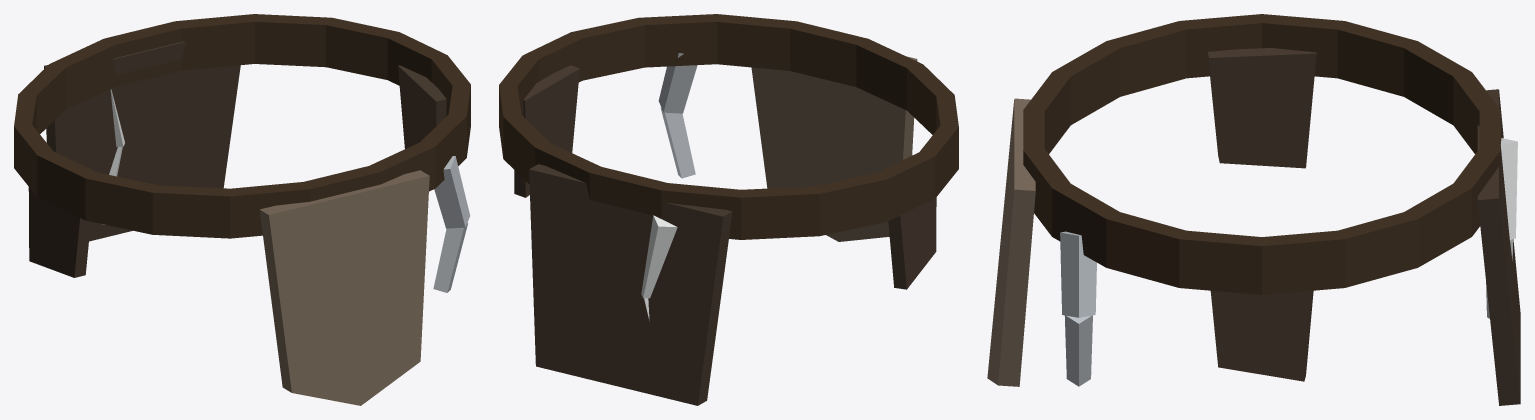
The model's file is mountain_troll_loincloth.glb.
3 views of the same model, side by side, from view 1: azimuth 30°, elevation 25°; view 2: azimuth 150°, elevation 25°; view 3: azimuth 270°, elevation 25° (orthographic). The views are drawn at different scales.
Parts seen in each view (by area): view 1: mountain_troll_loincloth; view 2: mountain_troll_loincloth; view 3: mountain_troll_loincloth.
Boxes of the visible parts, box(x1,y1,x2,y2) form: mountain_troll_loincloth: box(14, 14, 470, 405); mountain_troll_loincloth: box(499, 14, 958, 405); mountain_troll_loincloth: box(987, 14, 1520, 405).
Bounding box in the file's own units: 1.02 × 0.5114 × 0.9899.
